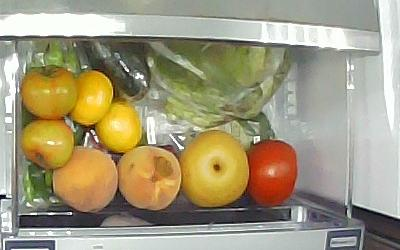peach: (51, 145, 119, 212), (115, 143, 182, 210)
pear: (177, 128, 249, 207)
tangerine: (66, 68, 113, 125), (93, 99, 142, 153)
tomato: (245, 138, 297, 206), (19, 63, 77, 118), (18, 116, 74, 168)
